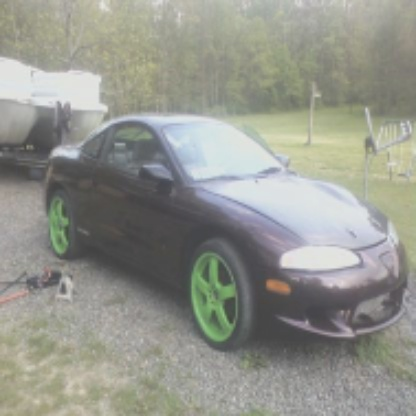Vehicle: (42, 111, 413, 356)
